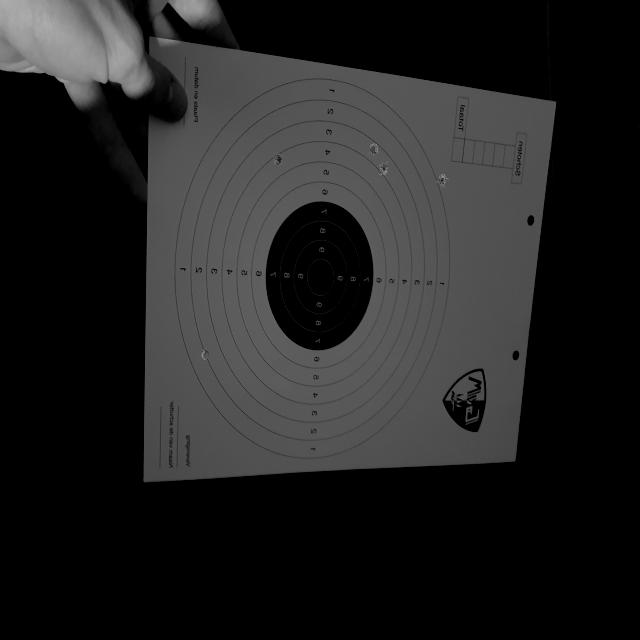1: (436, 174, 448, 188)
2: (201, 348, 209, 360)
3: (369, 144, 378, 156)
4: (378, 161, 388, 176), (275, 154, 283, 166)
Target: (174, 75, 452, 460)
black_contour: (266, 200, 374, 351)
